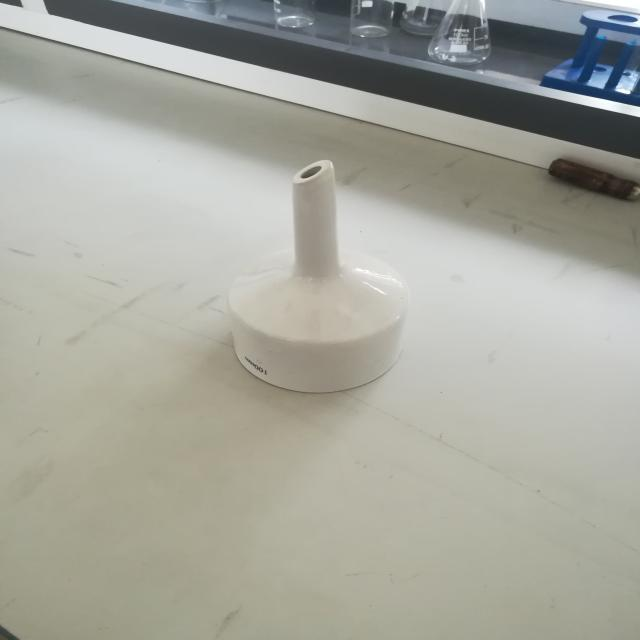Buchner_Funnel: (177, 131, 442, 426)
